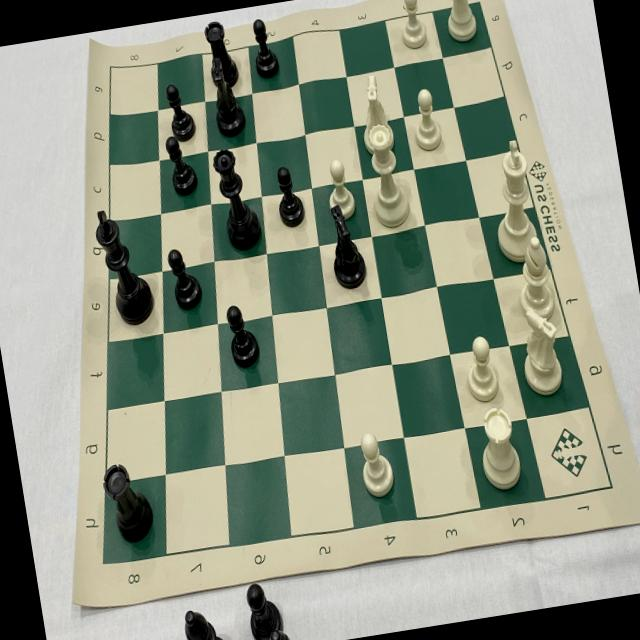black-king: (89, 200, 159, 334)
black-knight: (320, 200, 378, 294), (204, 54, 248, 142)
black-pawn: (162, 238, 207, 314), (268, 160, 312, 233), (223, 299, 265, 372), (162, 129, 202, 201), (162, 77, 200, 146), (246, 13, 285, 80)
black-queen: (208, 140, 268, 256)
black-rook: (98, 455, 159, 550), (200, 14, 246, 97)
white-bishop: (507, 230, 568, 324)
white-king: (482, 134, 552, 266)
white-knight: (511, 304, 575, 403), (348, 68, 400, 160)
white-pawn: (456, 328, 506, 410), (354, 422, 404, 503), (406, 81, 448, 156), (319, 150, 362, 222), (393, 0, 432, 52)
white-queen: (357, 119, 419, 234)
white-rook: (471, 404, 528, 496), (437, 0, 485, 48)
